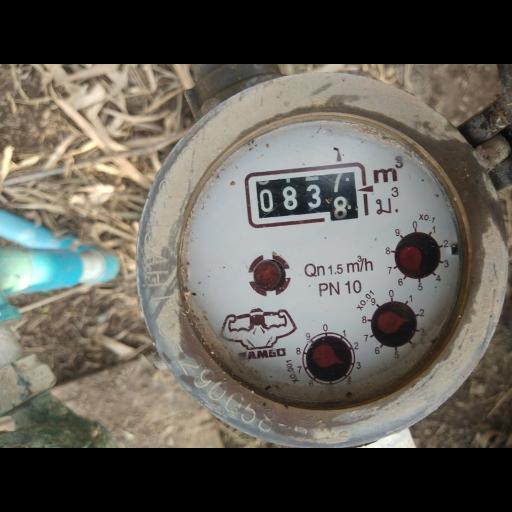0: (256, 180, 281, 219)
3: (298, 174, 330, 215)
7: (326, 172, 359, 221)
8: (277, 177, 303, 217)
border_water_meter_number: (243, 161, 370, 230)
